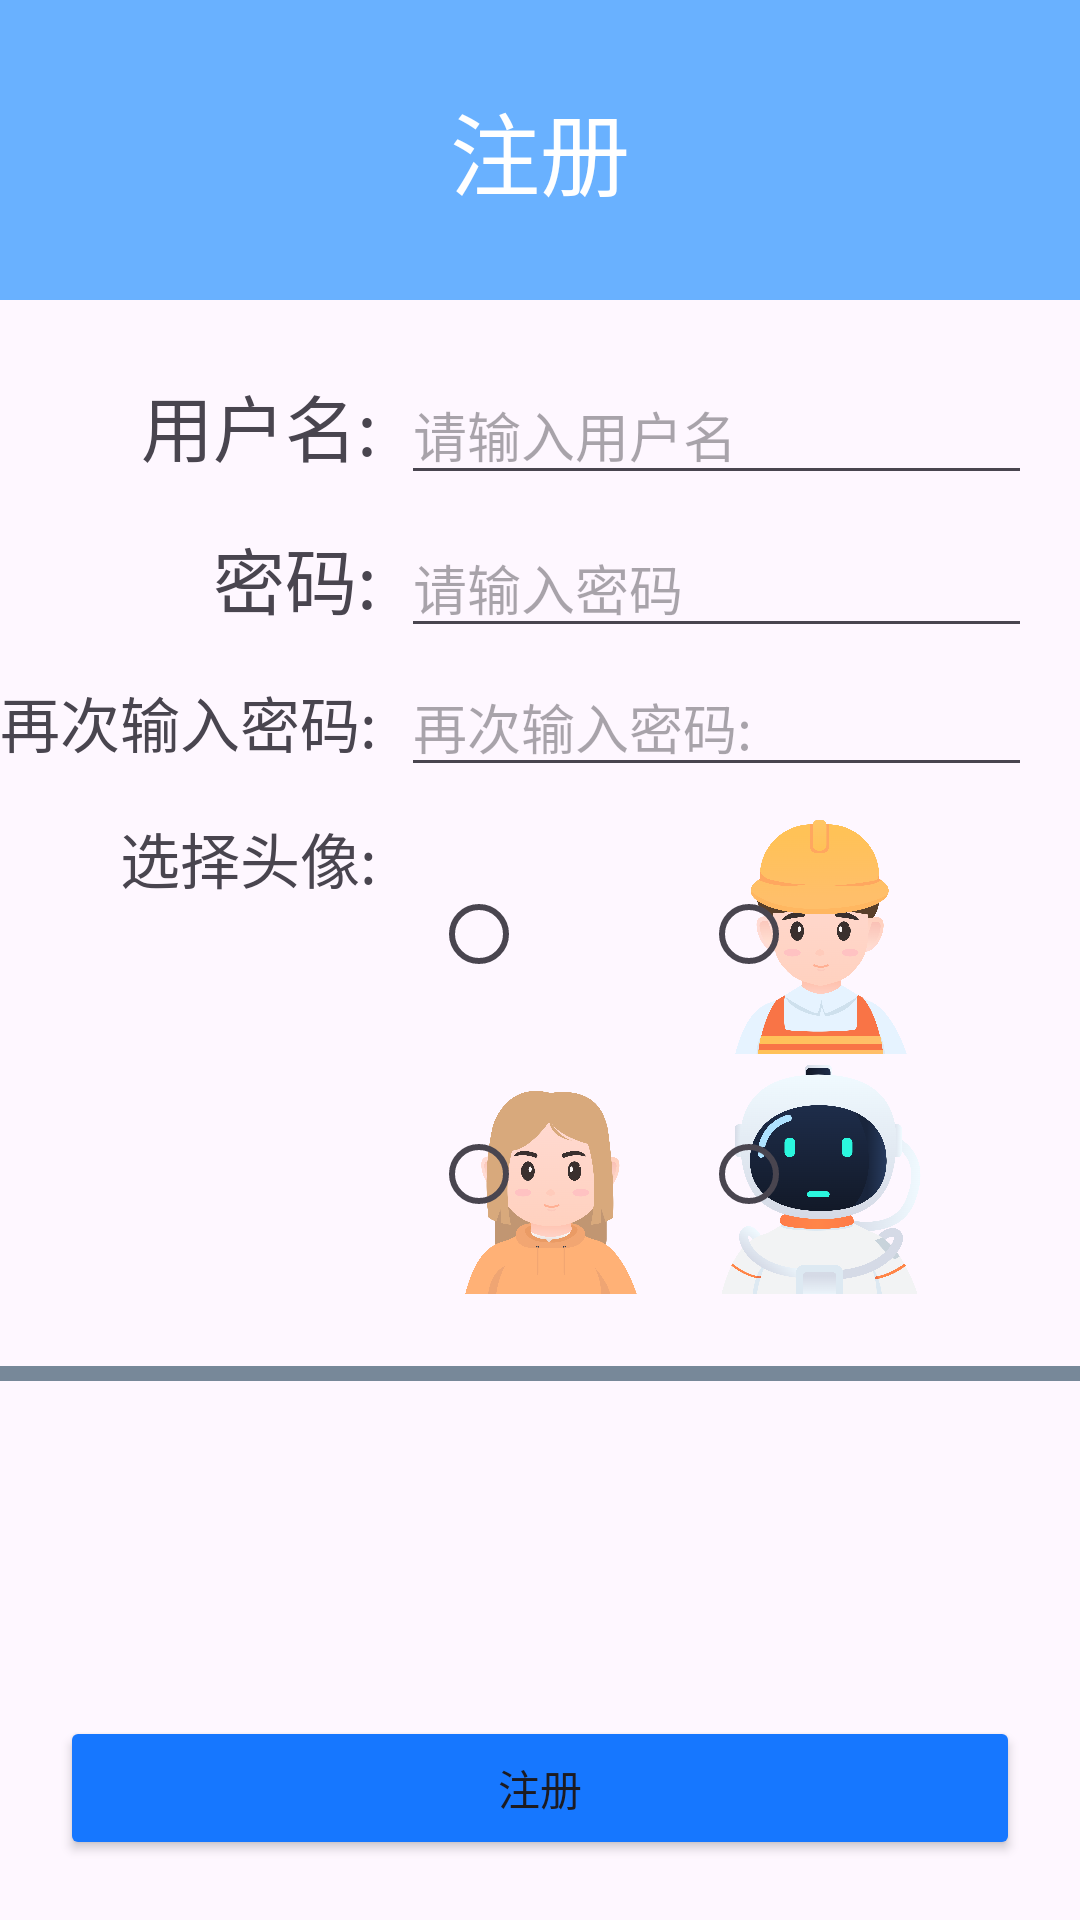

Named icons in this screenshot (1080w x 1920h) and their bounding boxes, (x1, y1, x2, y2):
girl: (449, 1091, 637, 1294)
robot: (719, 1065, 920, 1294)
worker: (719, 820, 889, 1054)
